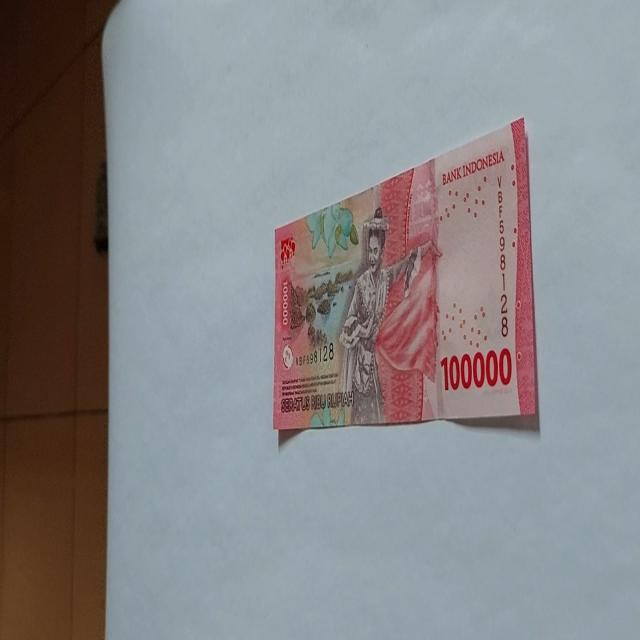seratus ribu rupiah: (271, 115, 539, 438), (337, 205, 435, 425)
